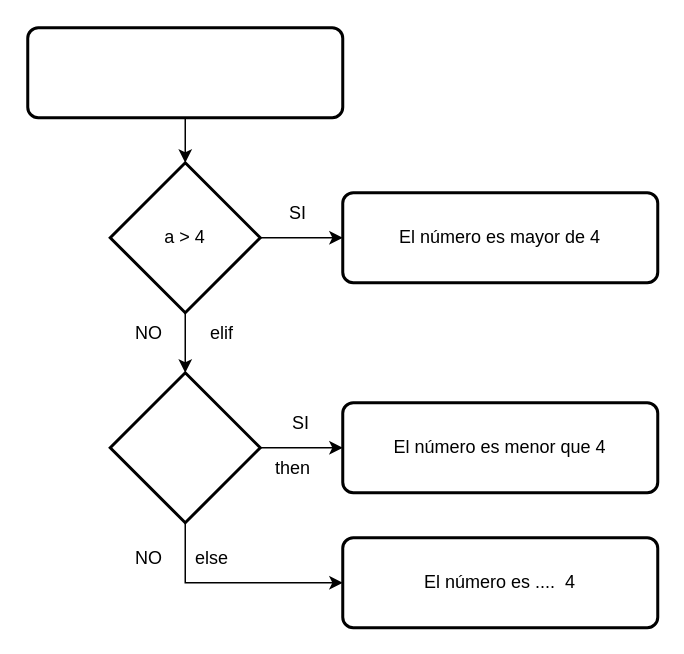
Some shapes in this 684 by 654 pixel diagram are drawn without their labels. Each missing label, with the box of its shape:
a < 4: (108, 370, 261, 524)
Dame un número entero (a):: (26, 26, 344, 118)
